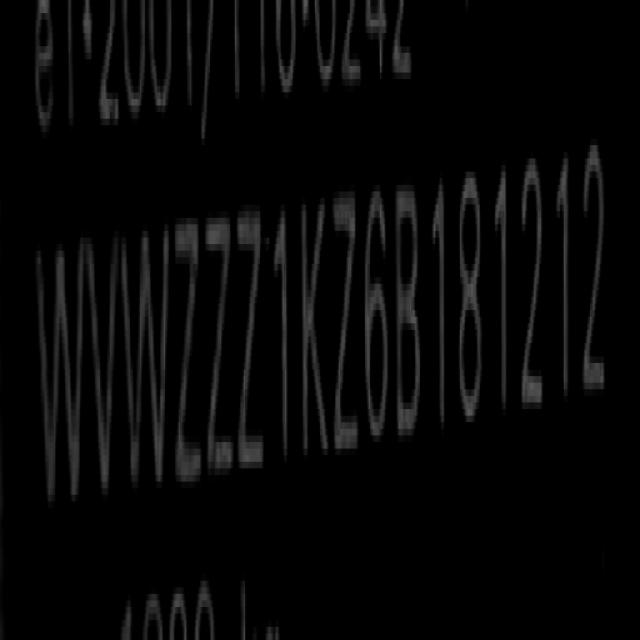1: (493, 166, 513, 430), (272, 200, 291, 477), (430, 167, 449, 437), (556, 140, 574, 416)
2: (521, 149, 547, 425), (584, 135, 610, 405)
6: (365, 182, 390, 455)
8: (458, 165, 484, 433)
B: (396, 173, 424, 450)
K: (301, 188, 330, 475)
V: (85, 230, 122, 510)
W: (34, 223, 86, 513), (120, 218, 168, 512)
Z: (172, 211, 201, 502), (236, 194, 264, 490), (206, 206, 234, 494), (333, 177, 358, 468)
